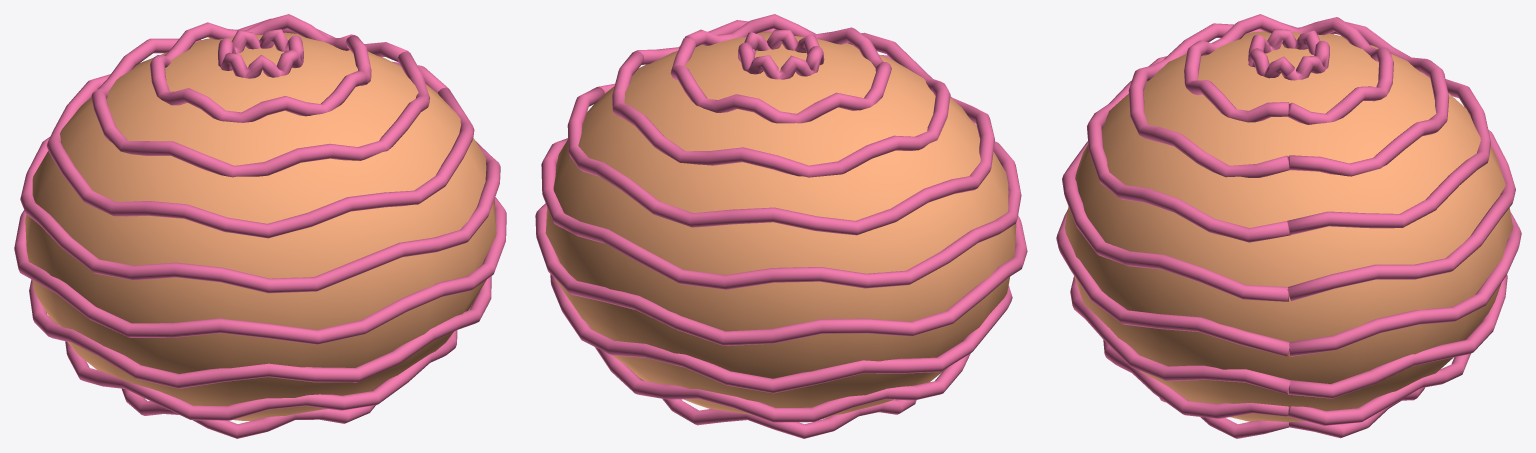
The model's file is underwater-reef-worlds-brain-coral-97992b75.glb.
The picture shows the model from 3 angles, left to right: view 1: azimuth 30°, elevation 25°; view 2: azimuth 150°, elevation 25°; view 3: azimuth 270°, elevation 25°; orthographic projection.
Visible parts, largest first — view 1: brain-coral; view 2: brain-coral; view 3: brain-coral.
Part boxes in pixels (x1,y1,x2,y2): brain-coral: (14,14,506,438); brain-coral: (535,14,1027,438); brain-coral: (1056,14,1521,438).
Size of the model in its own units: 1.34 by 1.05 by 1.25.
